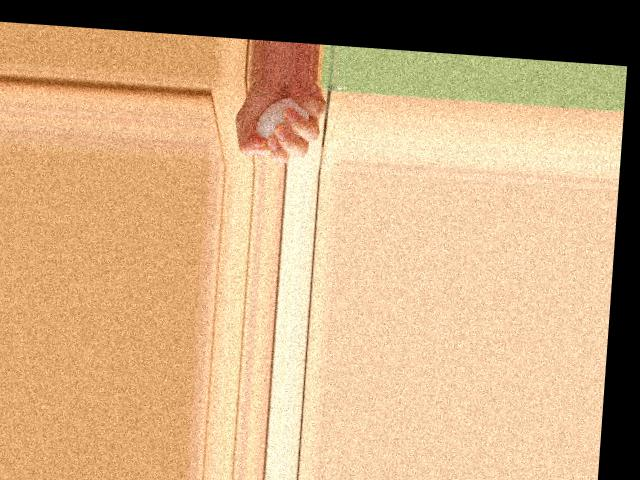egg: (255, 95, 311, 141)
